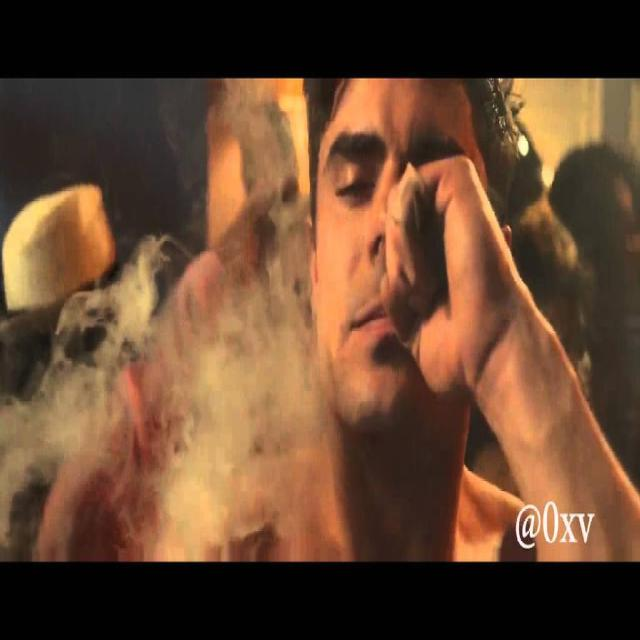smoking: (72, 65, 525, 517)
